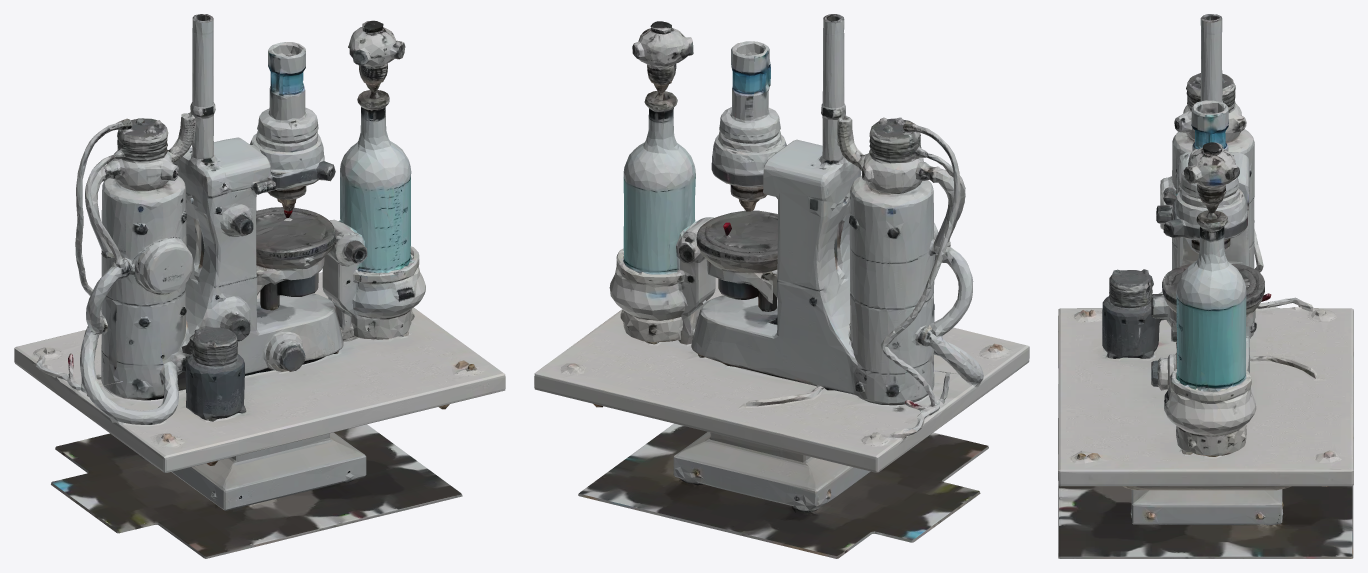
Rendered from head (112).glb.
The picture shows the model from 3 angles, left to right: view 1: azimuth 30°, elevation 25°; view 2: azimuth 150°, elevation 25°; view 3: azimuth 270°, elevation 25°; orthographic projection. The views are drawn at different scales.
Parts seen in each view (by area): view 1: Hy21_Mesh.obj; view 2: Hy21_Mesh.obj; view 3: Hy21_Mesh.obj.
Boxes of the visible parts, x1=… form: Hy21_Mesh.obj: x1=14, y1=14, x2=505, y2=558; Hy21_Mesh.obj: x1=534, y1=14, x2=1029, y2=558; Hy21_Mesh.obj: x1=1058, y1=14, x2=1353, y2=558.
Size of the model in its own units: 1.56 by 1.96 by 1.15.
Materials: 1 (1 with a texture image).
